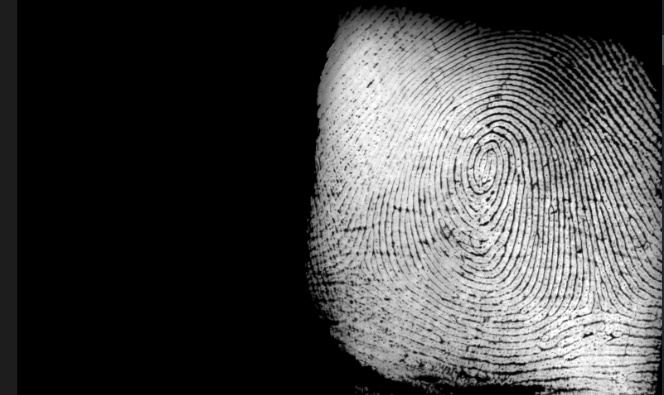nucelo: (477, 142, 503, 190)
verticilo: (585, 290, 609, 318), (347, 258, 378, 276)
